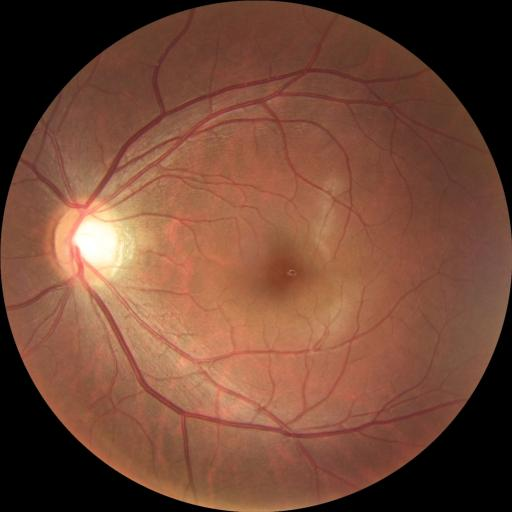Optic Cup: (73, 220, 117, 264)
Optic Disc: (54, 201, 123, 282)
